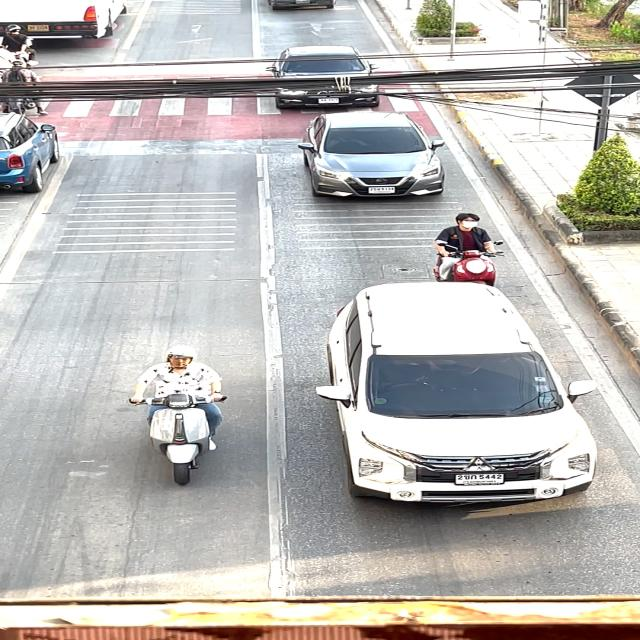car: (294, 280, 611, 524), (279, 100, 464, 212), (252, 34, 381, 115)
